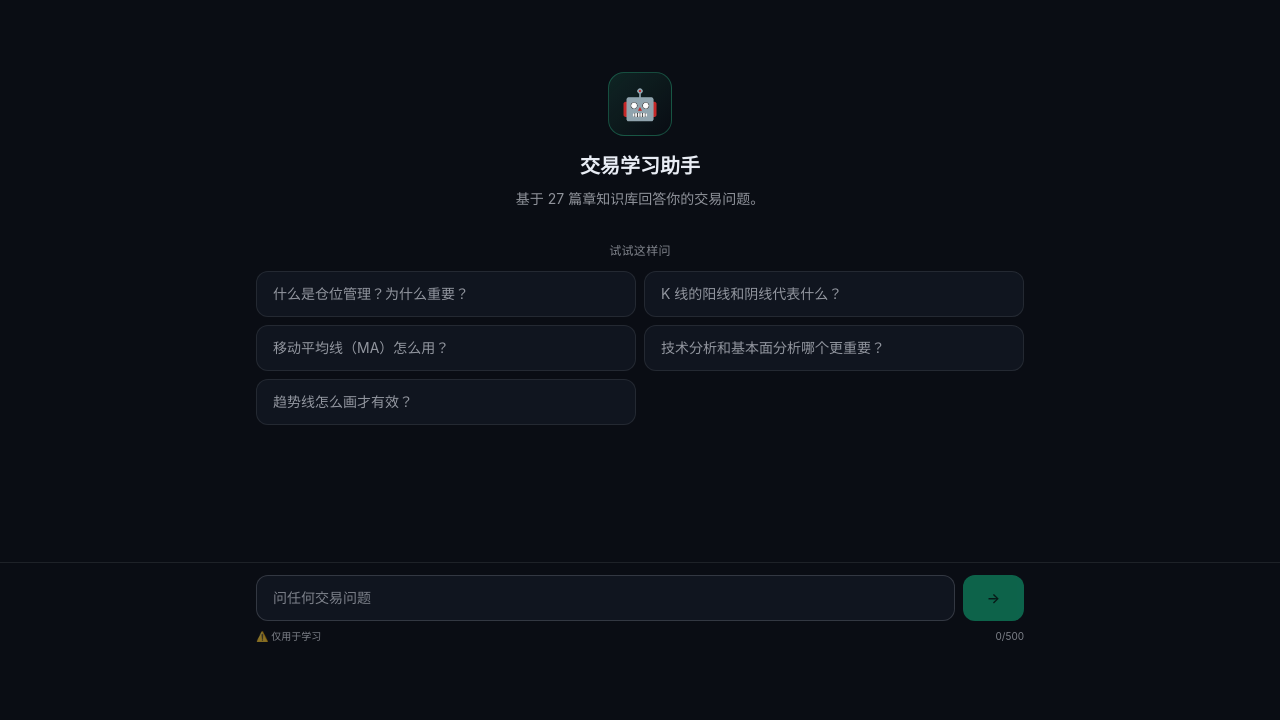
it: AiChat 加载态（R1.10） › 非流式响应（无 body reader）回退为一次性读取全文
Click the button "什么是仓位管理？为什么重要？" at (446, 294), box [256,271,636,317]
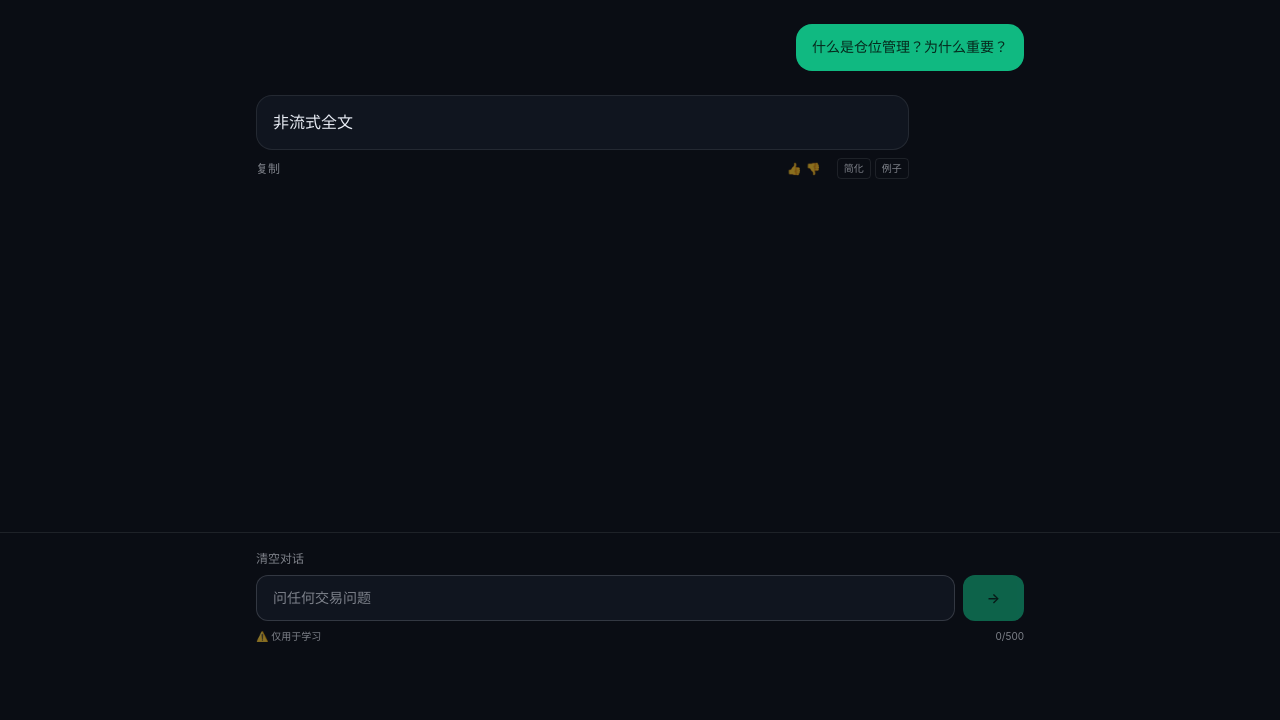
expect the text "非流式全文" is shown: met, box [273,112,353,132]
